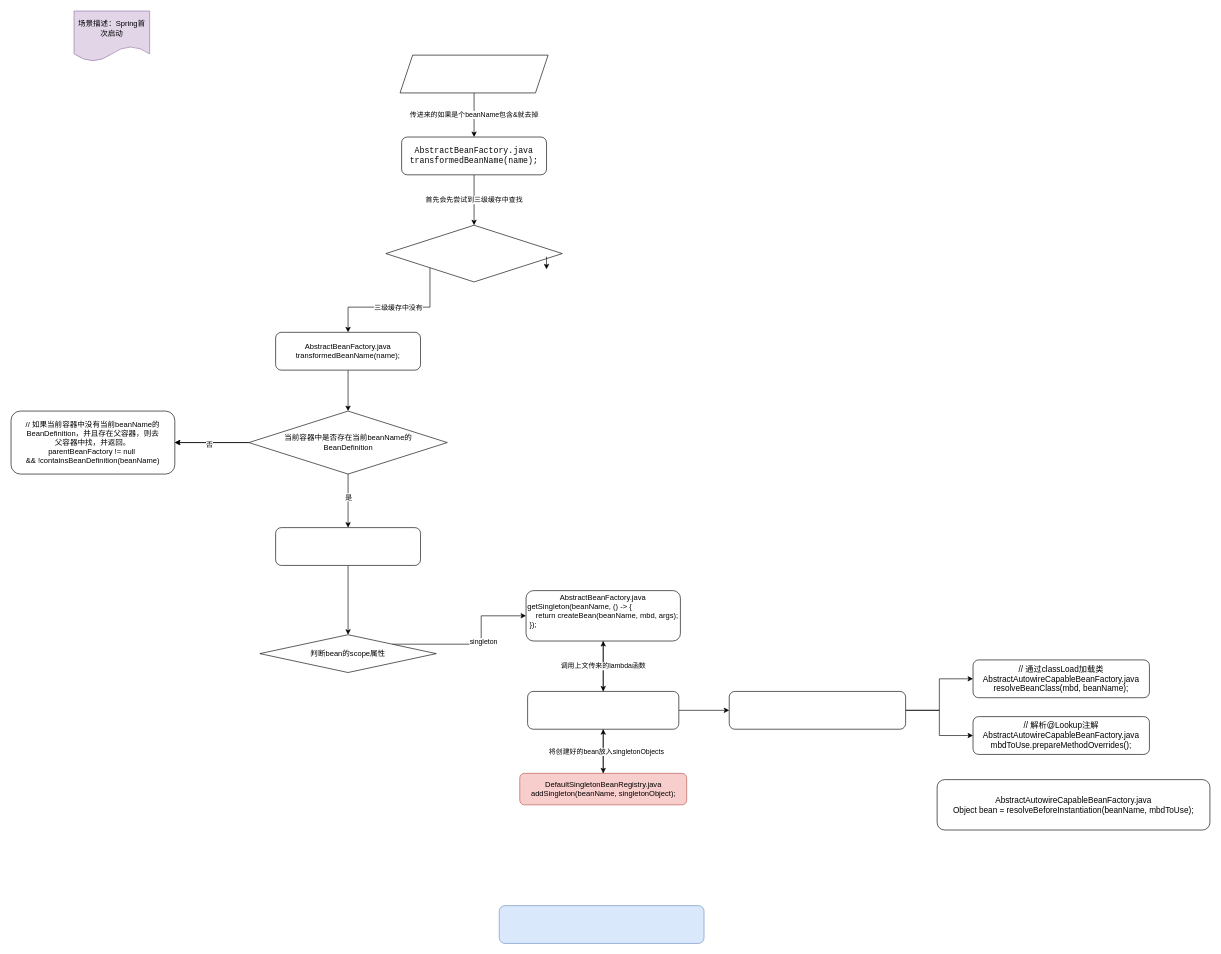
Image size: 1221x954. Some labels were removed from this diagram. Here are the shapes that lost their labels. From the top down, the box of each, then its label:
(399, 54, 548, 93): AbstractBeanFactory.java doGetBean(...)
(385, 225, 562, 282): AbstractBeanFactory.java getSingleton(beanName);
(275, 527, 421, 565): AbstractBeanFactory.java 解析@dependsOn注解
(527, 691, 679, 729): DefaultSingletonBeanRegistry.java singletonFactory.getObject()
(729, 691, 906, 729): AbstractAutowireCapableBeanFactory .java createBean ()
(499, 905, 704, 943): afterSingletonCreation(beanName);
